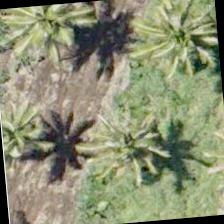Kelapa_Sawit: (78, 92, 176, 190), (139, 0, 222, 87), (0, 84, 68, 180), (5, 1, 100, 67)
